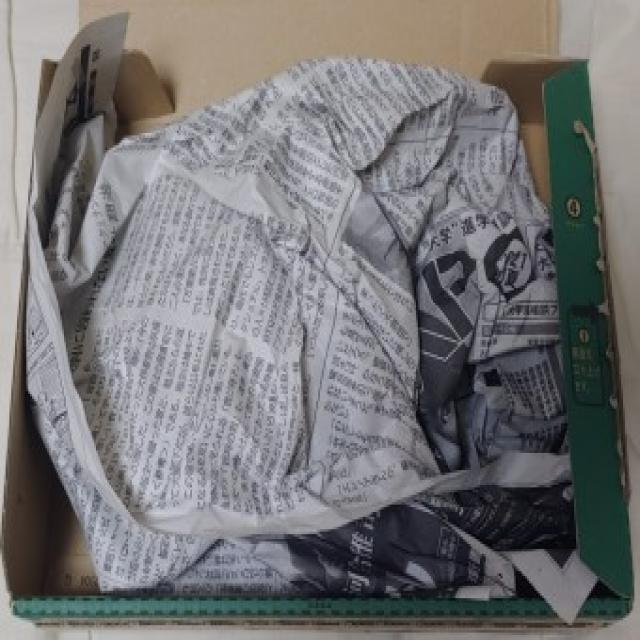Newspaper: (79, 110, 545, 598)
